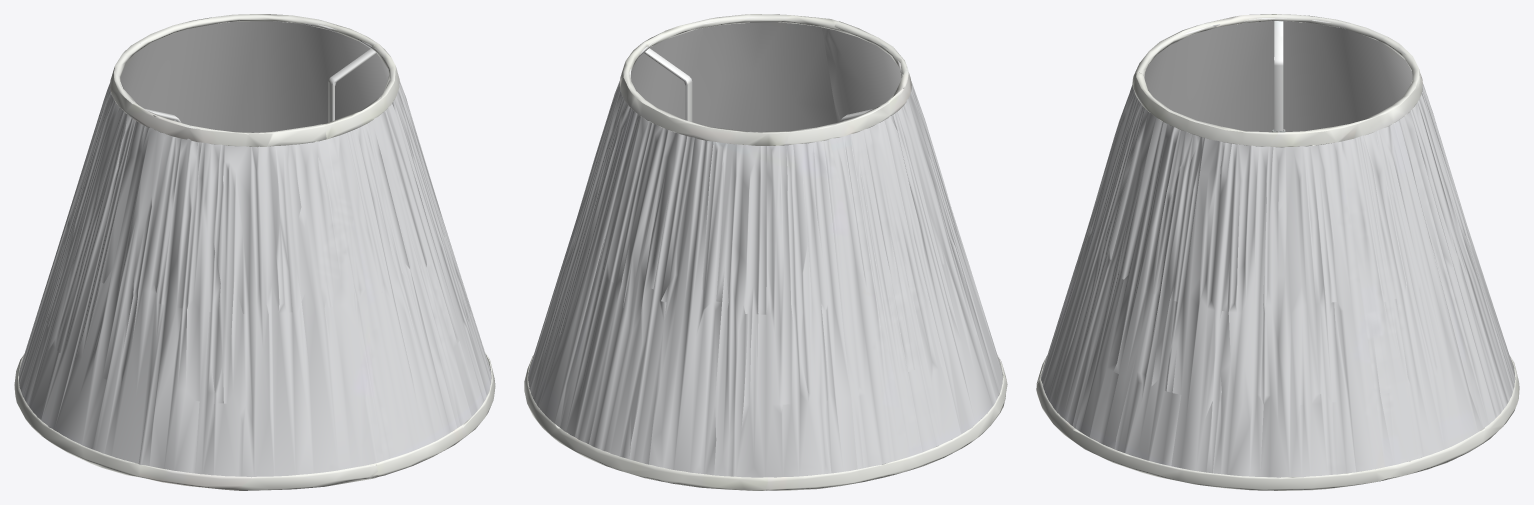
File: 17 - MYRHULT Lamp shade - white 33 cm.glb
3 renders of one model, left to right at view 1: azimuth 30°, elevation 25°; view 2: azimuth 150°, elevation 25°; view 3: azimuth 270°, elevation 25°, orthographic.
Parts seen in each view (by area): view 1: model; view 2: model; view 3: model.
Boxes of the visible parts, box(x1,y1,x2,y2) form: model: box(14, 14, 495, 490); model: box(524, 14, 1007, 490); model: box(1036, 14, 1519, 490).
Size of the model in its own units: 0.3314 by 0.2409 by 0.3317.
Materials: 1 (1 with a texture image).
